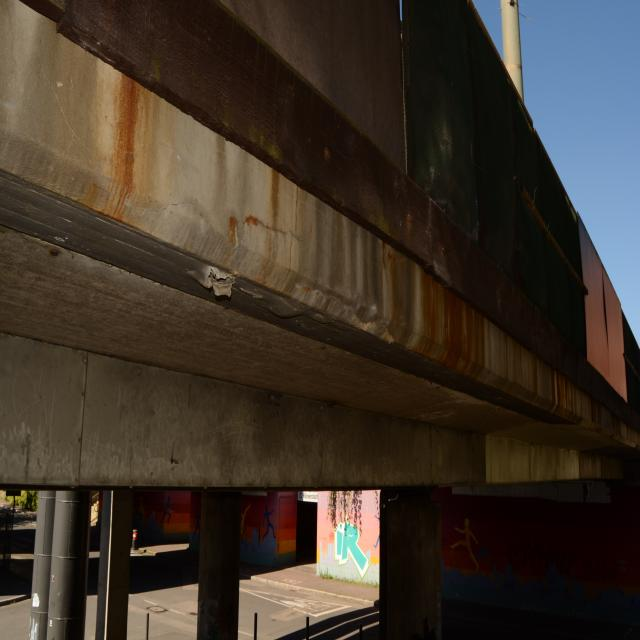corrosion: (0, 21, 378, 391), (382, 155, 567, 416), (565, 386, 640, 456)
